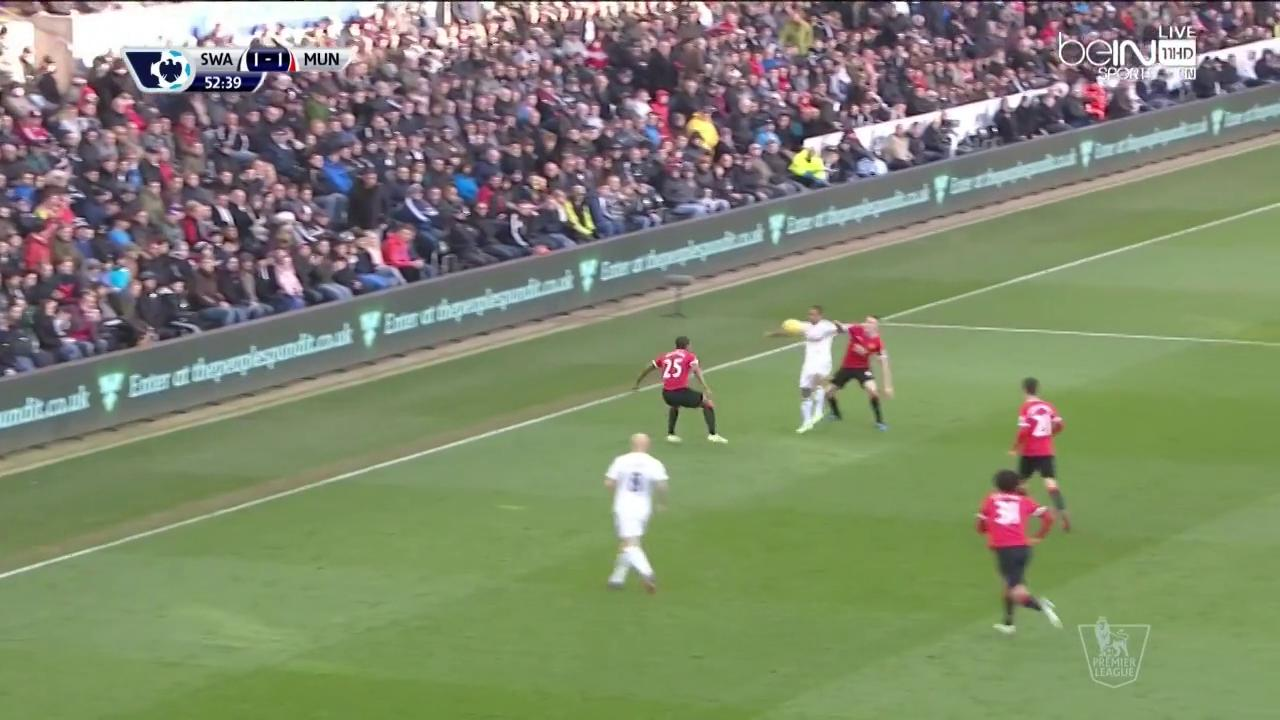football: (782, 319, 803, 338)
